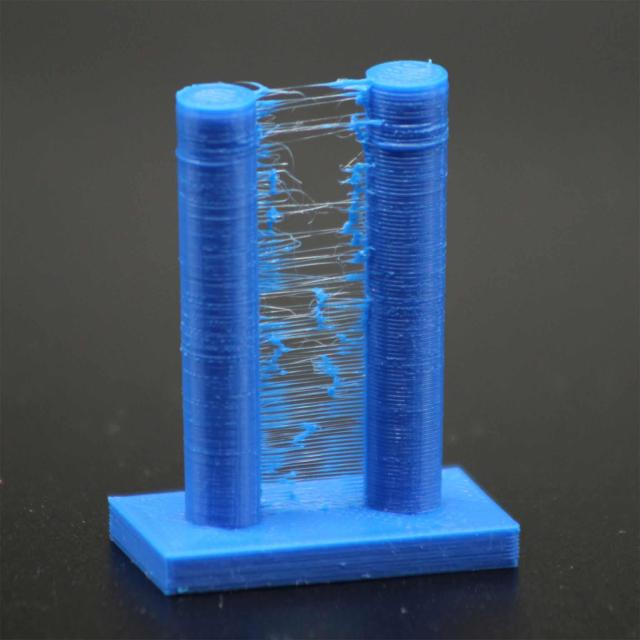Stringing: (240, 76, 402, 520)
